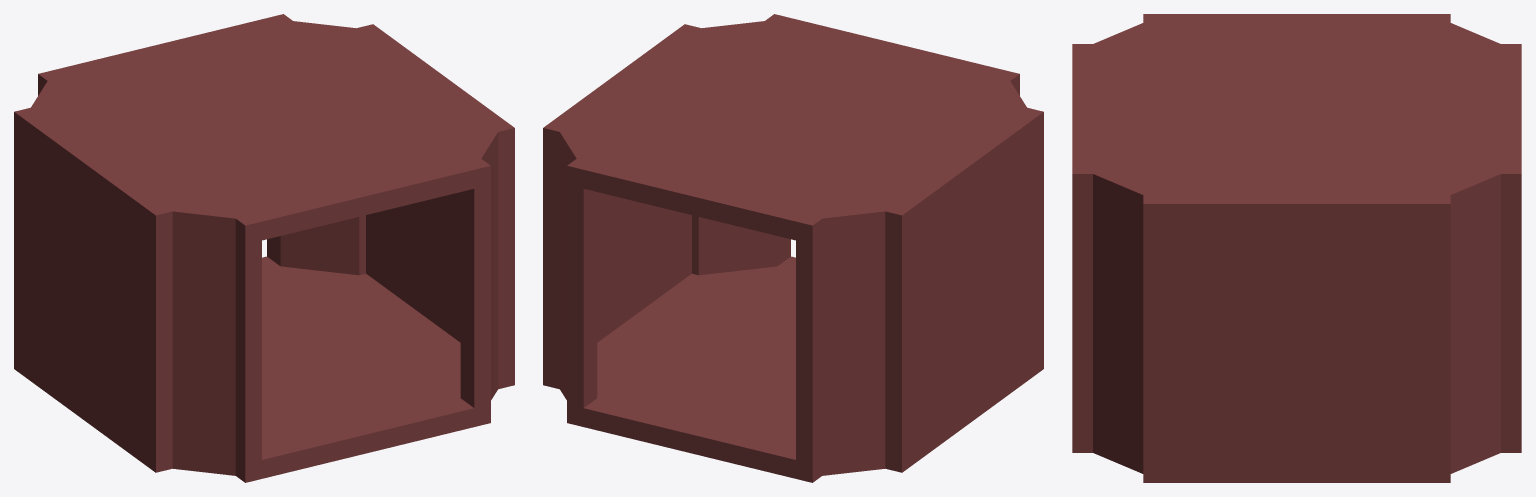
File: Cube 1x1 V5_Tunnel Horizontal.obj
3 views of the same model, side by side, from view 1: azimuth 30°, elevation 25°; view 2: azimuth 150°, elevation 25°; view 3: azimuth 270°, elevation 25° (orthographic). The views are drawn at different scales.
Visible parts, largest first — view 1: Solid1:26; view 2: Solid1:26; view 3: Solid1:26.
Boxes of the visible parts, x1,y1,x2,y2 form: Solid1:26: [14, 14, 514, 482]; Solid1:26: [543, 14, 1043, 482]; Solid1:26: [1072, 14, 1521, 482].
Bounding box in the file's own units: 49.65 × 34 × 49.65.
